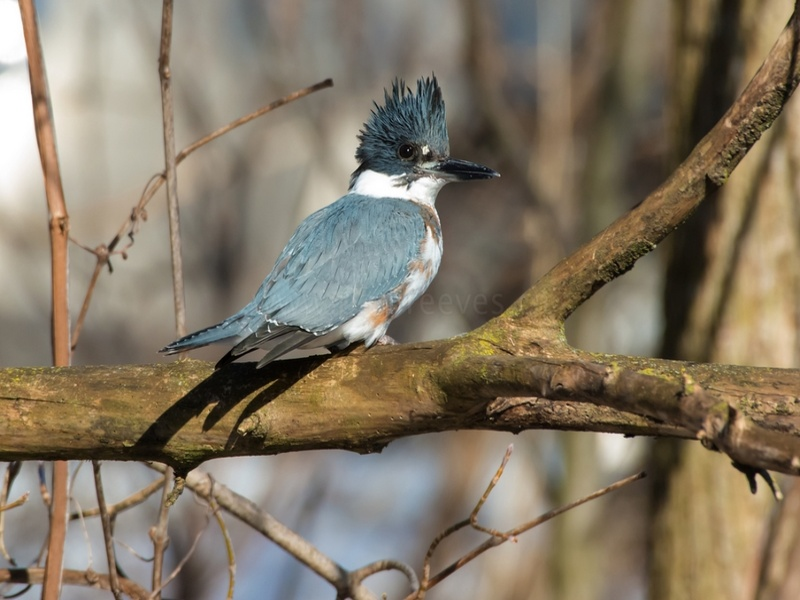kingfisher: (156, 71, 506, 390)
